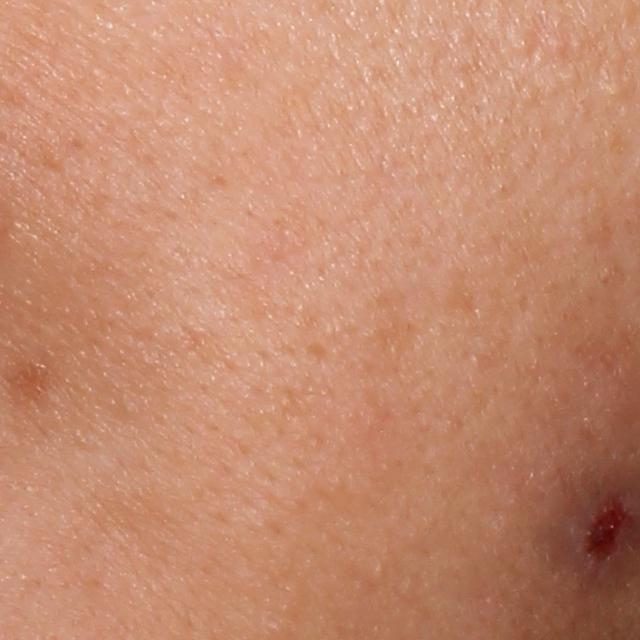comedo: (507, 29, 537, 58), (602, 78, 630, 105)
melasma: (6, 354, 59, 413)
other: (575, 500, 629, 564)
